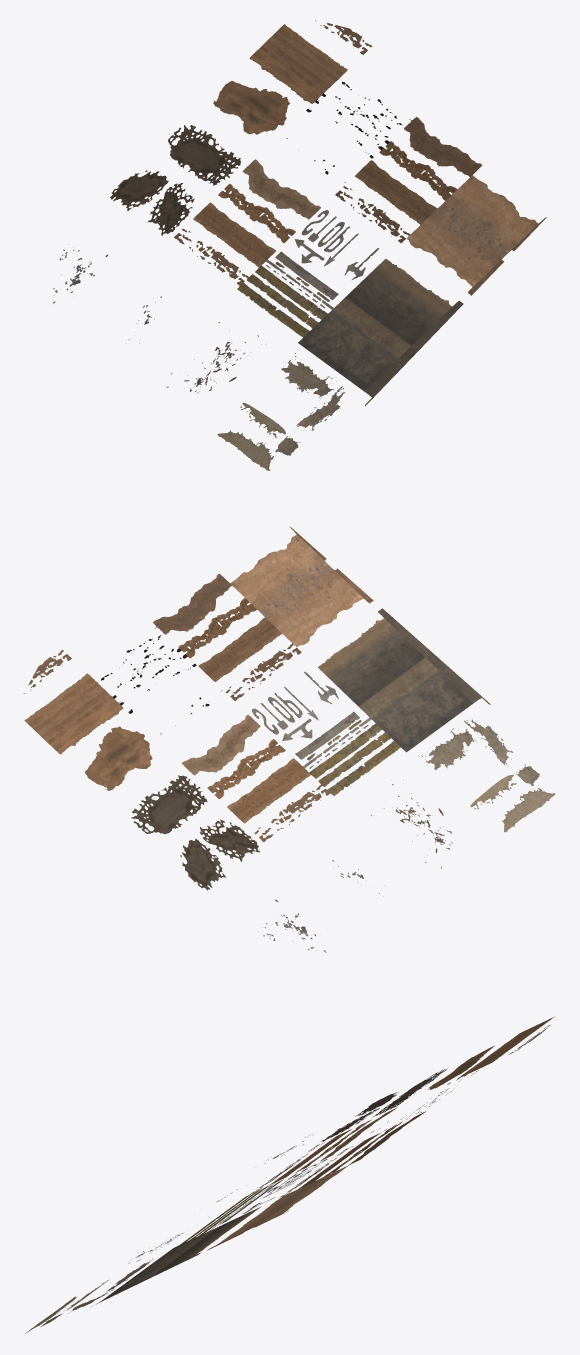
The model's file is SM_Terrain_Road_Hills_Asphalt_Soil_04_ATLAS.fbx.
3 renders of one model, top to bottom at view 1: azimuth 30°, elevation 25°; view 2: azimuth 150°, elevation 25°; view 3: azimuth 330°, elevation 25°, orthographic.
Visible parts, largest first — view 1: SM_Terrain_Road_Hills_Asphalt_Soil_04_ATLAS_LOD0; view 2: SM_Terrain_Road_Hills_Asphalt_Soil_04_ATLAS_LOD0; view 3: SM_Terrain_Road_Hills_Asphalt_Soil_04_ATLAS_LOD0.
Boxes of the visible parts, left/top/right/bottom form: SM_Terrain_Road_Hills_Asphalt_Soil_04_ATLAS_LOD0: left=53, top=20, right=546, bottom=470; SM_Terrain_Road_Hills_Asphalt_Soil_04_ATLAS_LOD0: left=23, top=527, right=554, bottom=952; SM_Terrain_Road_Hills_Asphalt_Soil_04_ATLAS_LOD0: left=25, top=1016, right=554, bottom=1333.
Bounding box in the file's own units: 335 × 471 × 229.
